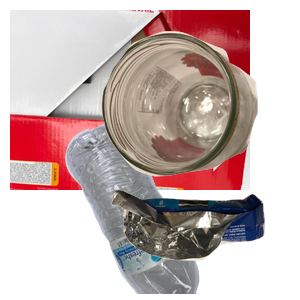cardboard: (10, 10, 250, 190)
glass: (98, 29, 300, 198)
plastic: (63, 120, 263, 300)
trash: (109, 187, 300, 300)
